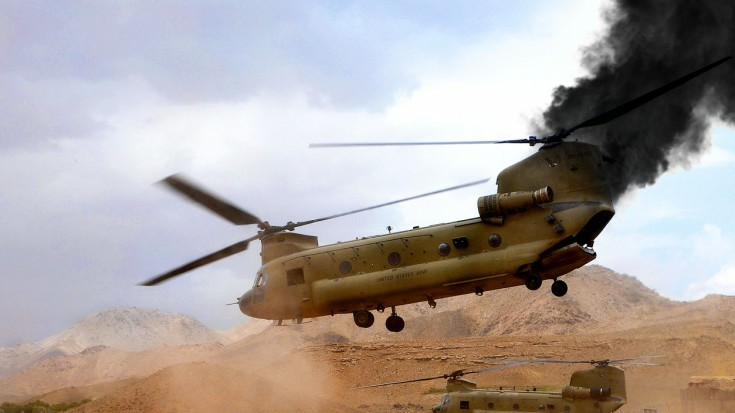chinook: (135, 114, 661, 335), (413, 358, 651, 412)
